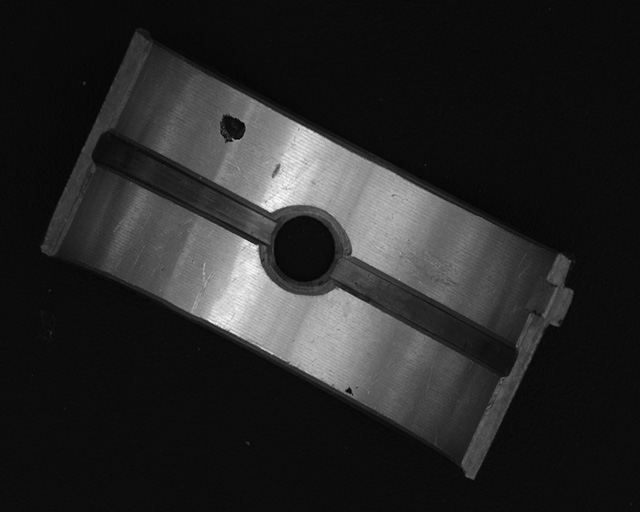blot: (219, 113, 247, 144), (344, 385, 355, 397)
bruise: (188, 260, 212, 315), (270, 161, 280, 179)
gap: (334, 259, 516, 374), (96, 132, 273, 241)
hole: (265, 206, 346, 294)
scratch: (388, 239, 482, 294)
